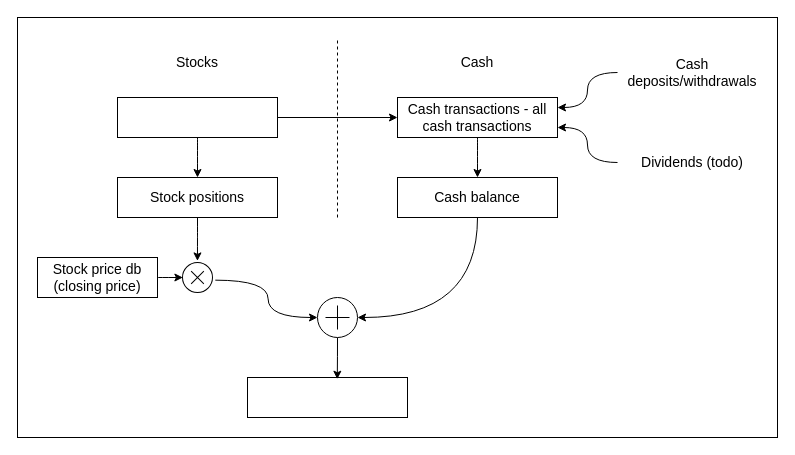
The diagram is 795 pixels wide and 455 high, and some of its shapes have lost their labels. Here are the shapes that lost their labels. From the top down, the centre of each, then its label:
the point at 197,117: Transactions - all stock transactions
the point at 327,397: Evaluate API portfolio value
